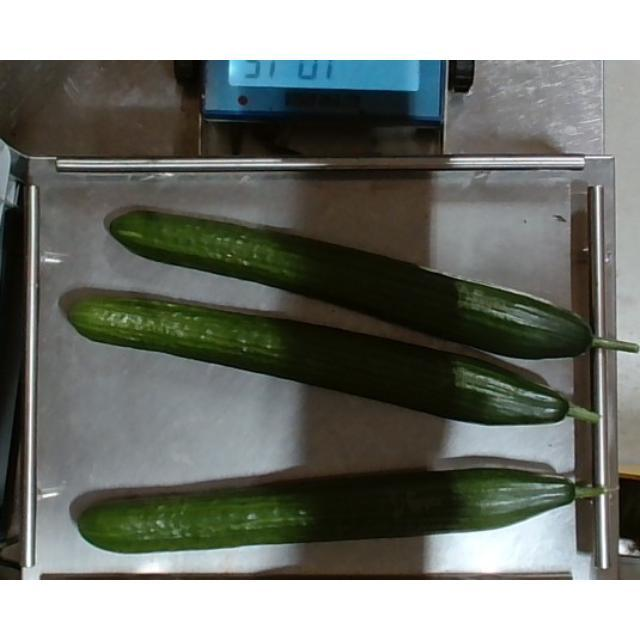cucumber: (62, 286, 632, 434), (81, 211, 639, 359), (69, 462, 612, 560)
